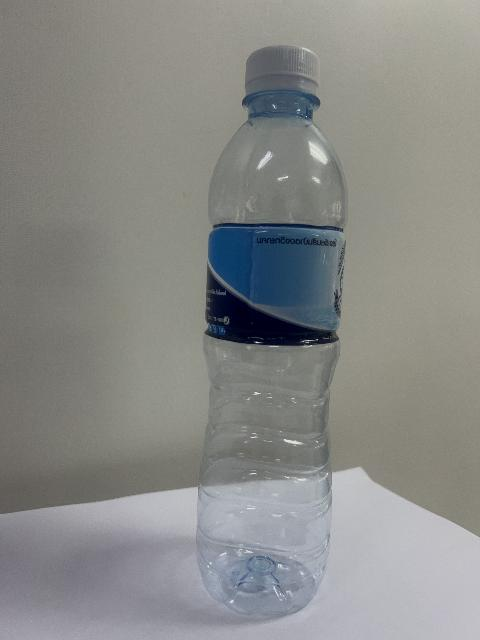bottle: (196, 46, 346, 615)
